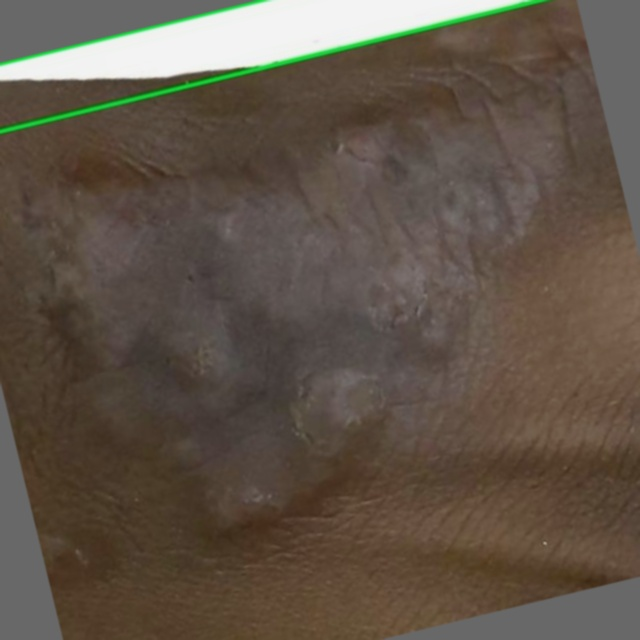Seborrheic Dermatitis: (0, 0, 539, 131)
